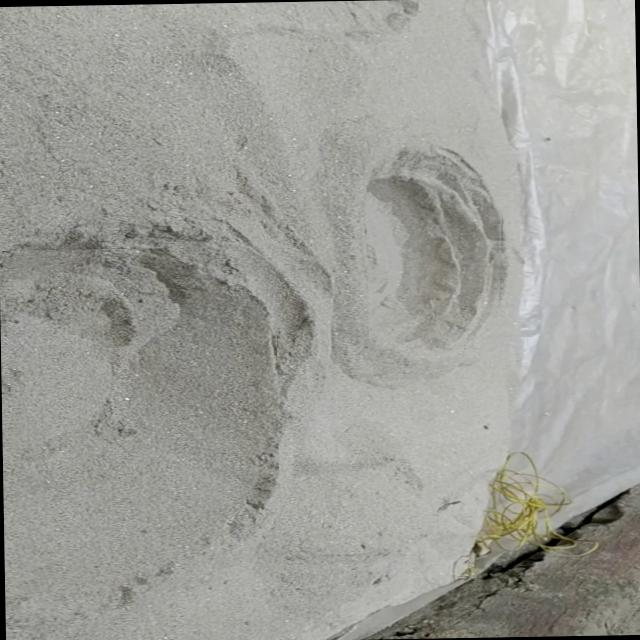C20: (1, 247, 278, 586), (366, 146, 501, 347)
